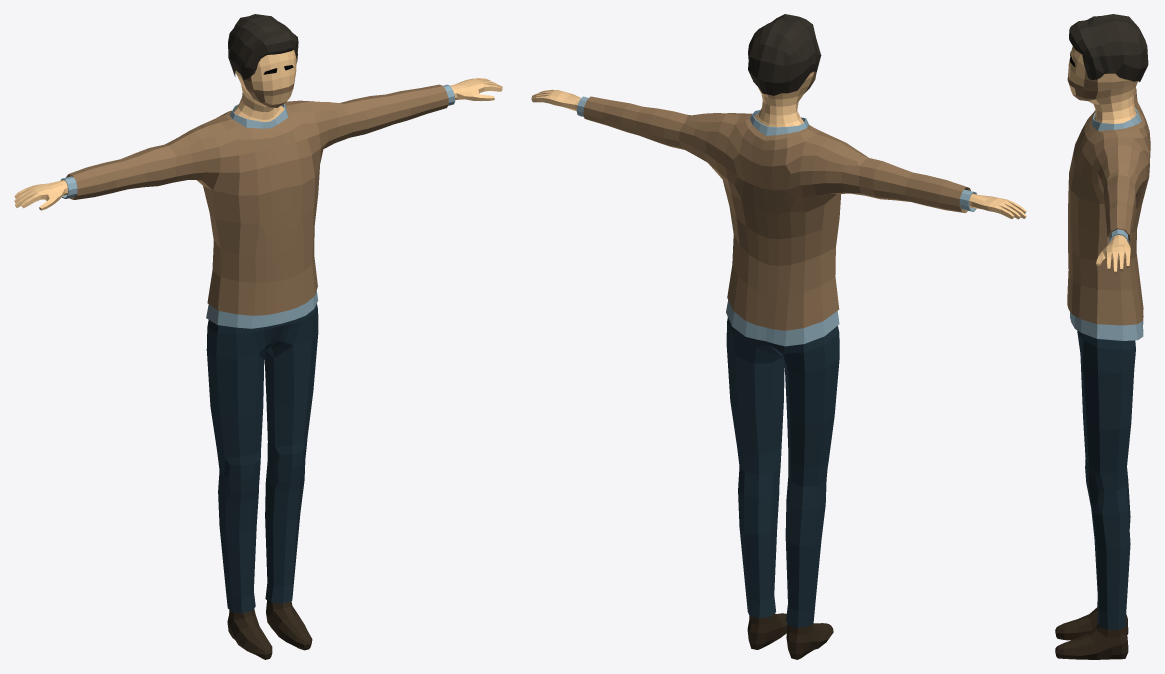
File: Human_Scale.glb
The picture shows the model from 3 angles, left to right: view 1: azimuth 30°, elevation 25°; view 2: azimuth 150°, elevation 25°; view 3: azimuth 270°, elevation 25°; orthographic projection.
Visible parts, largest first — view 1: Human Scale; view 2: Human Scale; view 3: Human Scale.
Boxes of the visible parts, x1=… form: Human Scale: x1=14, y1=14, x2=502, y2=659; Human Scale: x1=531, y1=14, x2=1026, y2=659; Human Scale: x1=1055, y1=14, x2=1150, y2=659.
Bounding box in the file's own units: 1.53 × 1.86 × 0.2544.
1 material, 1 textured.
